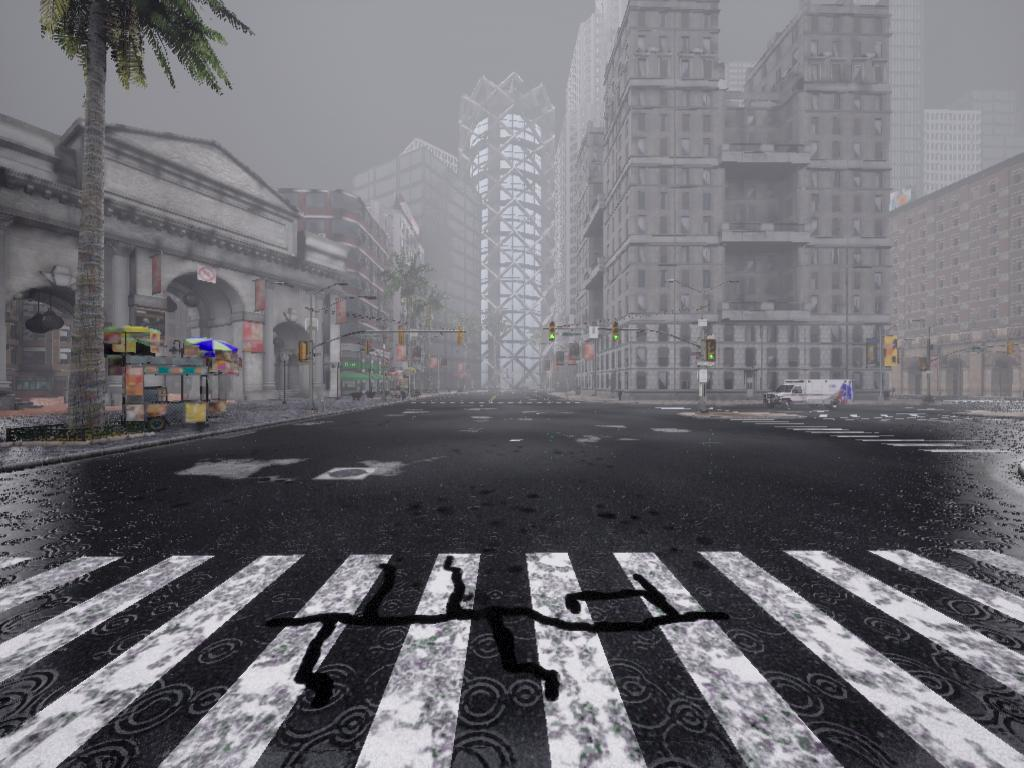traffic_light: (299, 344, 312, 365), (707, 340, 718, 364), (612, 322, 622, 344), (549, 324, 558, 341), (458, 326, 465, 347), (399, 327, 405, 347)
